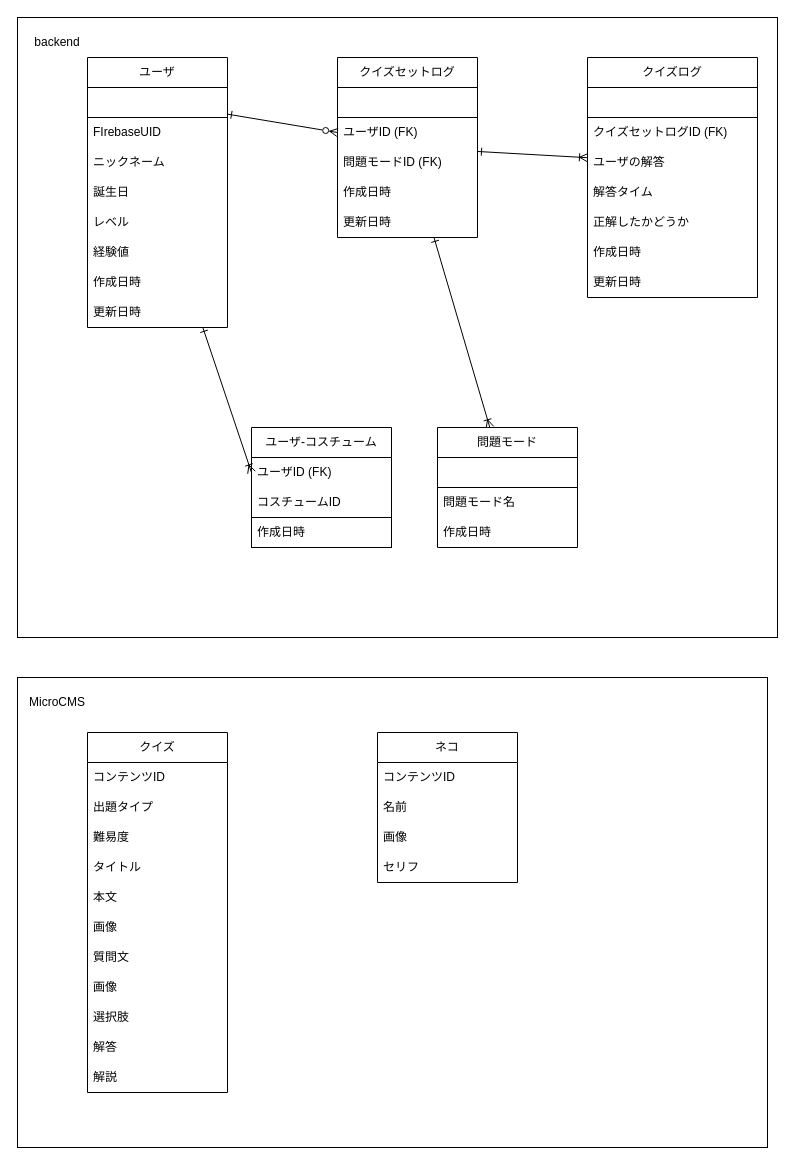
Image size: 795x1165. Some labels were removed from this diagram. Here are the shapes that lost their labels. From the top down, the centre of each, then its label:
pixel 157 102: ユーザID
pixel 407 102: クイズセットID
pixel 672 102: クイズログID
pixel 507 472: 問題モードID
